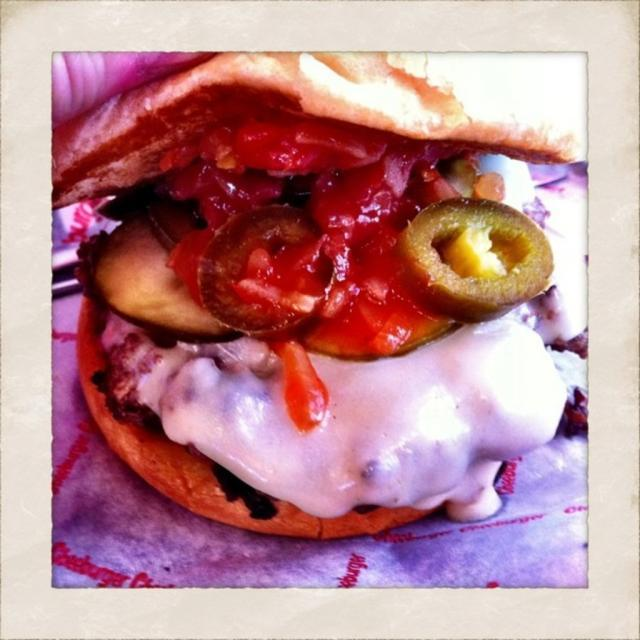Sandwich: (51, 49, 587, 546)
